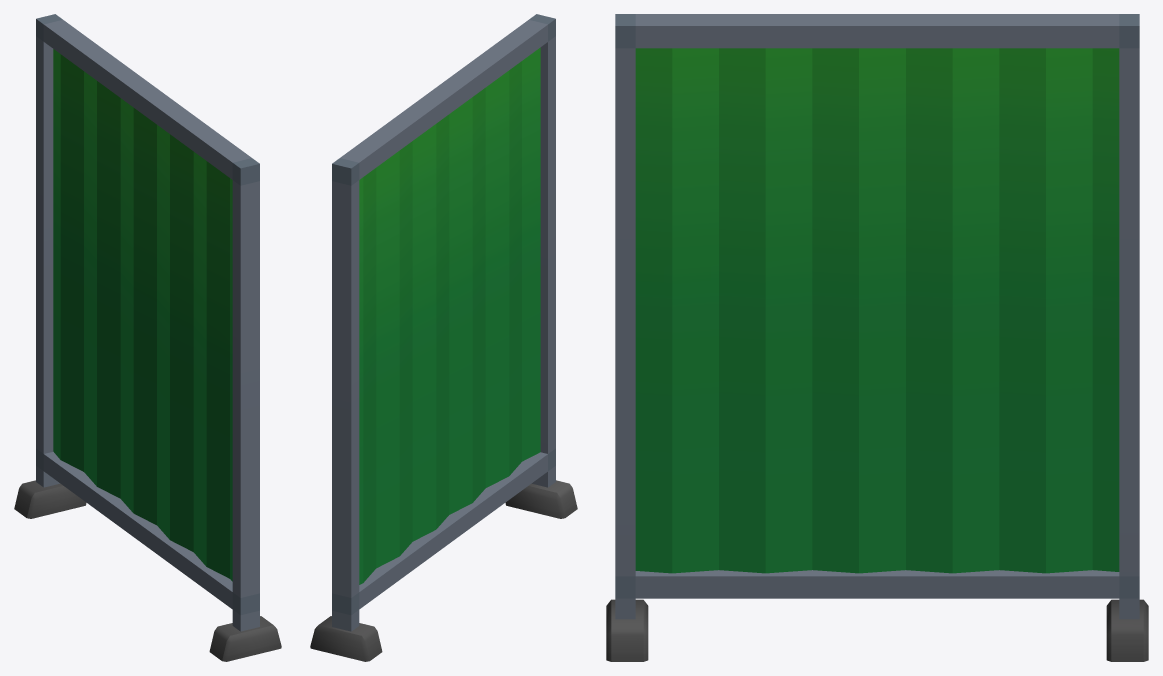
Rendered from Barier_2_8.fbx.
3 renders of one model, left to right at view 1: azimuth 30°, elevation 25°; view 2: azimuth 150°, elevation 25°; view 3: azimuth 270°, elevation 25°, orthographic. The views are drawn at different scales.
Visible parts, largest first — view 1: Barier_2_8; view 2: Barier_2_8; view 3: Barier_2_8.
Part boxes in pixels (left/top/right/bottom): Barier_2_8: left=14, top=14, right=281, bottom=661; Barier_2_8: left=310, top=14, right=577, bottom=661; Barier_2_8: left=606, top=14, right=1148, bottom=661.
Size of the model in its own units: 34.35 by 268 by 211.
